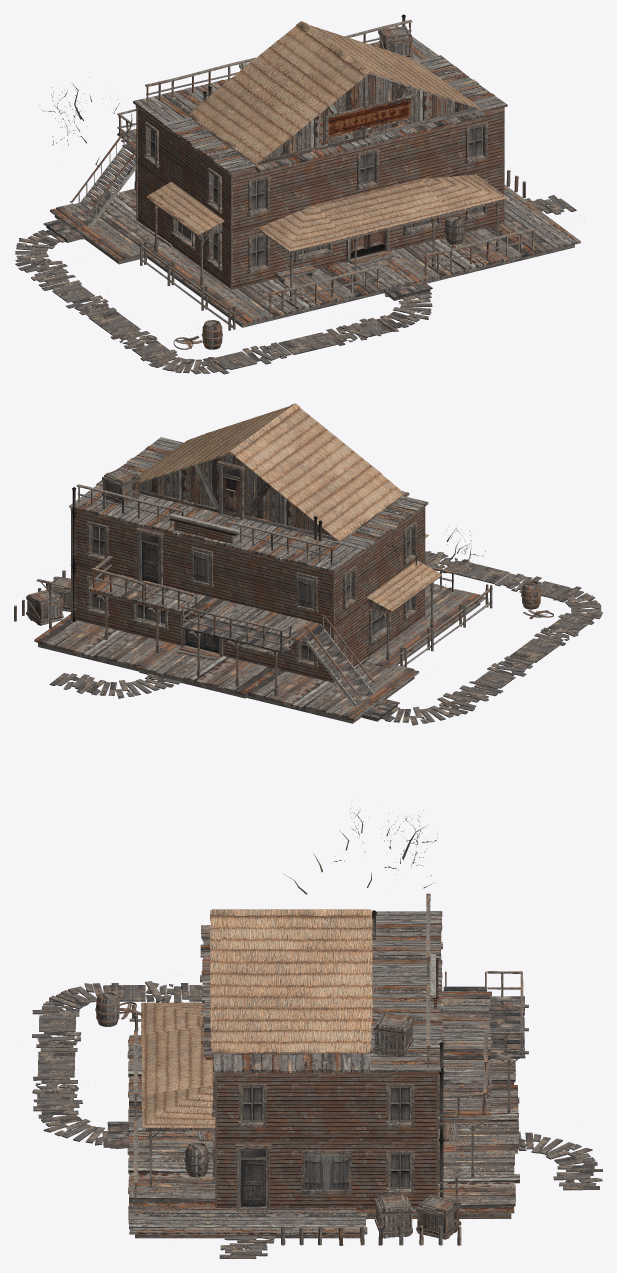
File: House_04_M2.gltf
3 views of the same model, one above another, from view 1: azimuth 30°, elevation 25°; view 2: azimuth 150°, elevation 25°; view 3: azimuth 270°, elevation 25° (orthographic). The views are drawn at different scales.
Visible parts, largest first — view 1: Roof_W6D6_v3, Floor_9x9 (1), Floor_9x9, Roof_W6D6_v3 (1), Window_W_v3 (×7), RoofExtension_W6_v1, Floor_6x6 (2), Woodpath_v2, Woodpath_v2 (1), Wall_W3H3_T1 (2), Wall_W3H3_T1, Stairs_W2H3D3_v1 (+38 smaller); view 2: Roof_W6D6_v3, Roof_W6D6_v3 (1), Floor_6x6 (2), Floor_6x6, Floor_6x6 (1), Floor_9x9 (1), Wall_W3H3_T1 (4), Window_W_v3 (×5), Woodpath_v2, Stairs_W2H3D3_v1, Balcony_W6_v1, Roof_W6D6_v1 (1) (+44 smaller); view 3: Roof_W6D6_v3 (1), Floor_9x9, Floor_6x6, Wall_W3H3_T1 (3), RoofExtension_W6_v1, Window_W_v3 (×3), Wall_W_W3H3_T1 (5), Wall_W_W3H3_T1 (6), Woodpath_v2 (1), Wall_W_W3H3_T1 (7), Roof_W6D6_v1 (1), RoofExtension_W3_v1 (1) (+32 smaller).
Boxes of the visible parts, <box> form: Roof_W6D6_v3: <box>188,21,370,164</box>; Floor_9x9 (1): <box>142,242,414,327</box>; Floor_9x9: <box>385,185,580,285</box>; Roof_W6D6_v3 (1): <box>302,21,481,137</box>; Window_W_v3 (×7): <box>143,121,489,273</box>; RoofExtension_W6_v1: <box>315,179,455,240</box>; Floor_6x6 (2): <box>50,188,172,264</box>; Woodpath_v2: <box>42,280,169,361</box>; Woodpath_v2 (1): <box>208,318,392,374</box>; Wall_W3H3_T1 (2): <box>394,127,448,185</box>; Wall_W3H3_T1: <box>286,154,340,216</box>; Stairs_W2H3D3_v1: <box>70,131,136,227</box>; Roof_W6D6_v3: <box>230,403,404,541</box>; Roof_W6D6_v3 (1): <box>138,403,295,512</box>; Floor_6x6 (2): <box>243,657,419,723</box>; Floor_6x6: <box>34,614,172,671</box>; Floor_6x6 (1): <box>134,643,273,698</box>; Floor_9x9 (1): <box>365,583,485,668</box>; Wall_W3H3_T1 (4): <box>229,549,281,614</box>; Window_W_v3 (×5): <box>86,521,418,667</box>; Woodpath_v2: <box>469,616,592,693</box>; Stairs_W2H3D3_v1: <box>301,614,375,706</box>; Balcony_W6_v1: <box>180,595,297,652</box>; Roof_W6D6_v1 (1): <box>87,574,218,617</box>; Roof_W6D6_v3 (1): <box>210,909,372,1053</box>; Floor_9x9: <box>127,1133,367,1238</box>; Floor_6x6: <box>355,1147,519,1218</box>; Wall_W3H3_T1 (3): <box>289,1075,363,1140</box>; RoofExtension_W6_v1: <box>141,1026,213,1097</box>; Window_W_v3 (×3): <box>237,1083,415,1194</box>; Wall_W_W3H3_T1 (5): <box>363,1075,436,1140</box>; Wall_W_W3H3_T1 (6): <box>217,1075,289,1140</box>; Woodpath_v2 (1): <box>32,1010,81,1110</box>; Wall_W_W3H3_T1 (7): <box>363,1141,436,1207</box>; Roof_W6D6_v1 (1): <box>341,1052,492,1122</box>; RoofExtension_W3_v1 (1): <box>141,1085,215,1130</box>.
Size of what is drawn, in the model's own units: 27.09 by 10.74 by 23.93.
2 materials, 2 textured.
